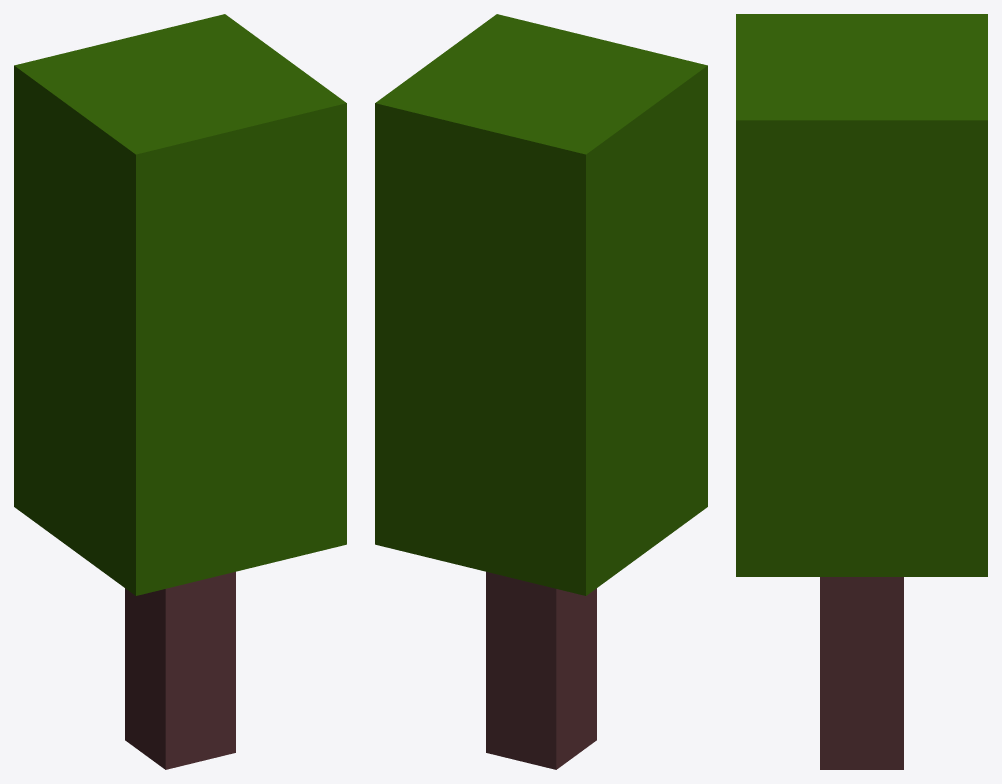
Rendered from tree-40.fbx.
3 views of the same model, side by side, from view 1: azimuth 30°, elevation 25°; view 2: azimuth 150°, elevation 25°; view 3: azimuth 270°, elevation 25° (orthographic). The views are drawn at different scales.
Visible parts, largest first — view 1: ObjObject.007; view 2: ObjObject.007; view 3: ObjObject.007.
Part boxes in pixels (x1,y1,x2,y2): ObjObject.007: (14,14,346,769); ObjObject.007: (375,14,707,769); ObjObject.007: (736,14,987,769).
Size of the model in its own units: 1200 by 3600 by 1200.
